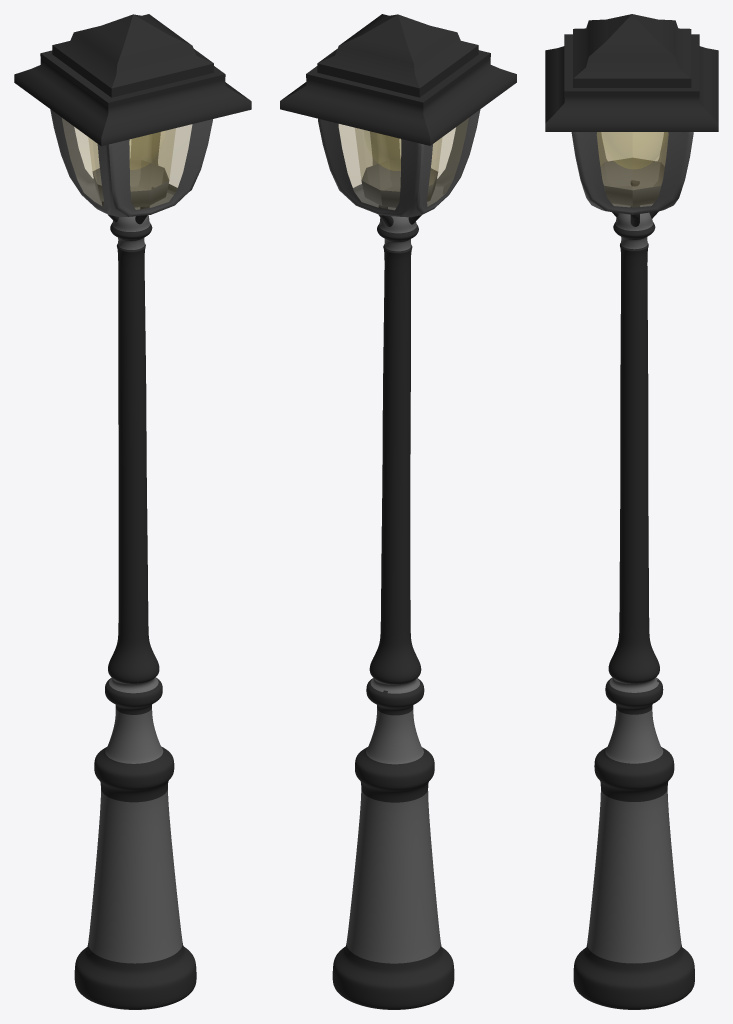
The model's file is road_lamp.glb.
3 views of the same model, side by side, from view 1: azimuth 30°, elevation 25°; view 2: azimuth 150°, elevation 25°; view 3: azimuth 270°, elevation 25° (orthographic).
Parts seen in each view (by area): view 1: Cube.001_1, Sphere_0; view 2: Cube.001_1, Sphere_0; view 3: Cube.001_1, Sphere_0.
Boxes of the visible parts, x1,y1,x2,y2 form: Cube.001_1: (14, 14, 251, 1009); Sphere_0: (129, 131, 165, 169); Cube.001_1: (280, 14, 516, 1009); Sphere_0: (364, 130, 400, 170); Cube.001_1: (545, 14, 718, 1009); Sphere_0: (600, 132, 667, 168).
Size of the model in its own units: 1.75 by 10.87 by 1.75.
